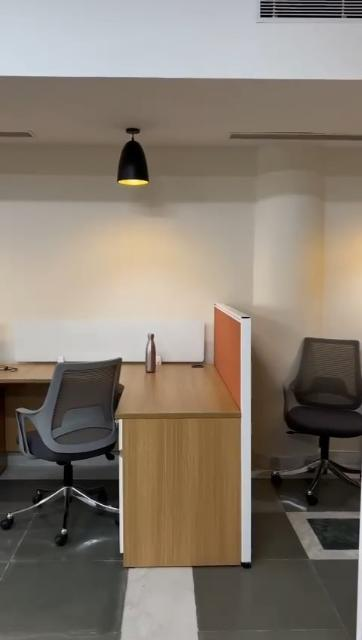floor: (0, 486, 354, 640)
object: (132, 367, 248, 566), (12, 356, 124, 552), (280, 331, 362, 503), (144, 332, 160, 376)
wall: (154, 146, 362, 300), (0, 0, 258, 92), (5, 153, 114, 319), (90, 205, 252, 302), (0, 95, 362, 128), (238, 22, 362, 98), (276, 281, 362, 331), (258, 286, 284, 386)
